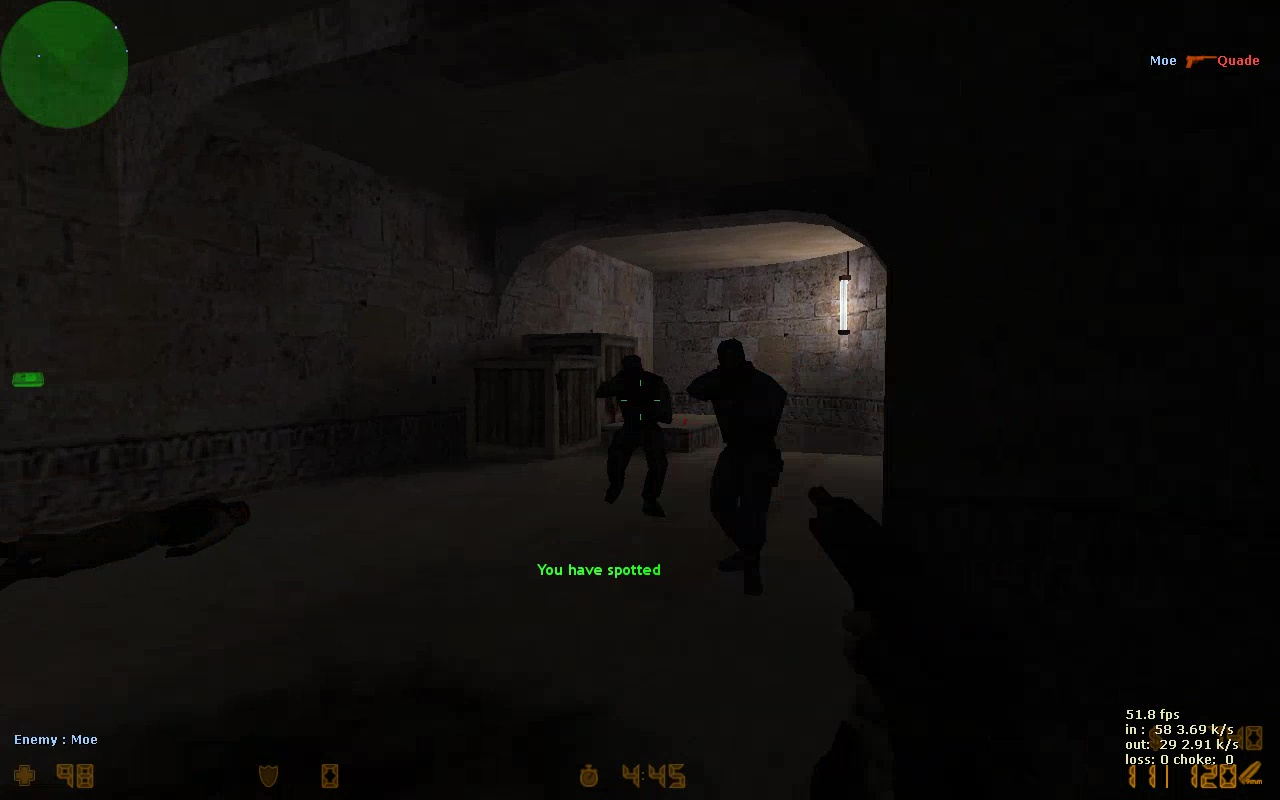ct: (685, 340, 792, 594), (600, 359, 669, 510)
dead: (1, 494, 246, 592)
